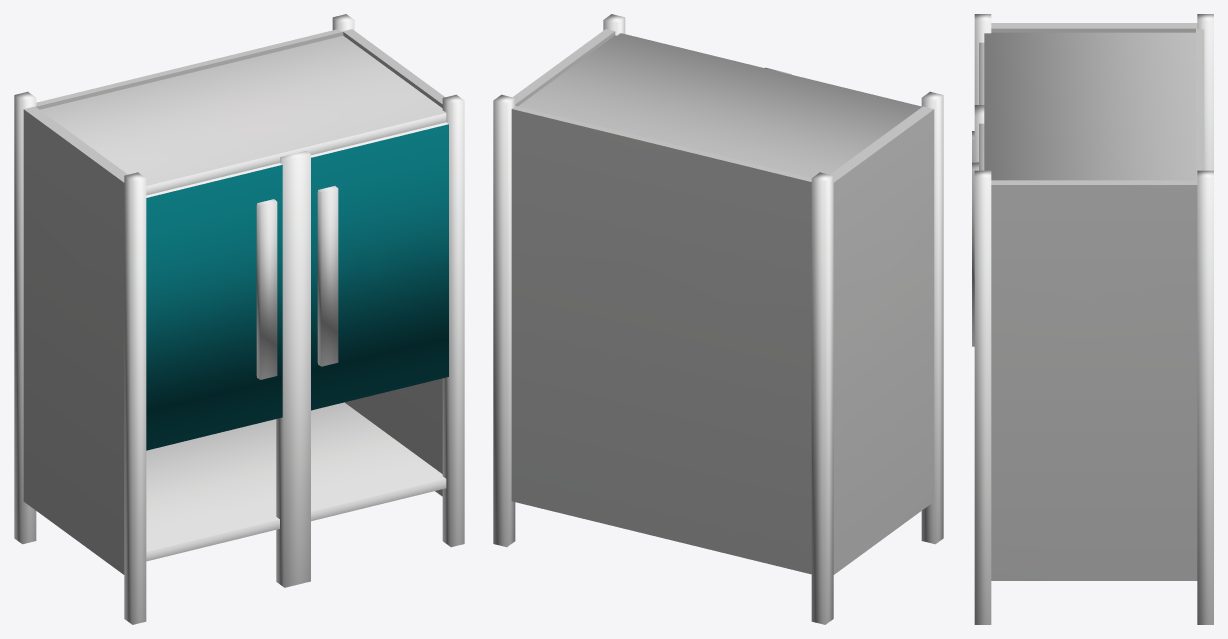
File: ArmarioBio.fbx
The picture shows the model from 3 angles, left to right: view 1: azimuth 30°, elevation 25°; view 2: azimuth 150°, elevation 25°; view 3: azimuth 270°, elevation 25°; orthographic projection.
Visible parts, largest first — view 1: ArmarioBio; view 2: ArmarioBio; view 3: ArmarioBio.
Boxes of the visible parts, bbox=[...] form: ArmarioBio: bbox=[14, 14, 464, 624]; ArmarioBio: bbox=[493, 14, 943, 624]; ArmarioBio: bbox=[972, 14, 1213, 624].
Bounding box in the file's own units: 97.38 × 124 × 60.81.
